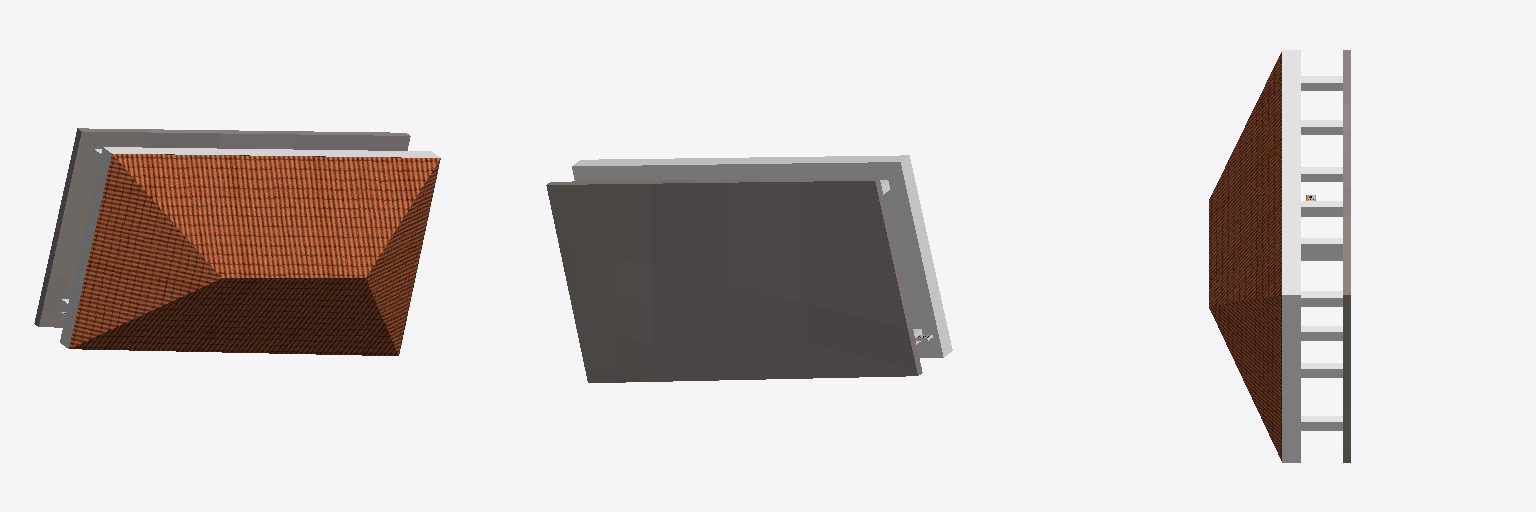
3 renders of one model, left to right at view 1: azimuth 30°, elevation 25°; view 2: azimuth 150°, elevation 25°; view 3: azimuth 270°, elevation 25°, orthographic.
Visible parts, largest first — view 1: polygon.766; view 2: polygon.766; view 3: polygon.766.
Boxes of the visible parts, x1,y1,x2,y2 form: polygon.766: [34, 128, 440, 355]; polygon.766: [546, 155, 952, 382]; polygon.766: [1209, 50, 1350, 462].
Size of the model in its own units: 24.04 by 16.84 by 8.
Materials: 1 (1 with a texture image).